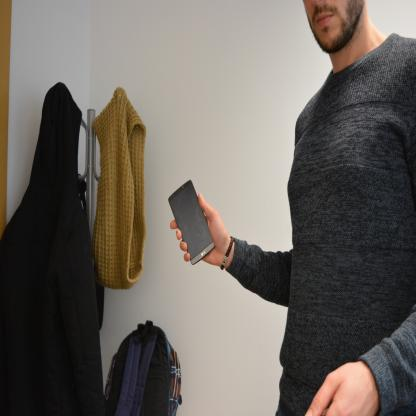smartphone: (168, 179, 215, 265)
